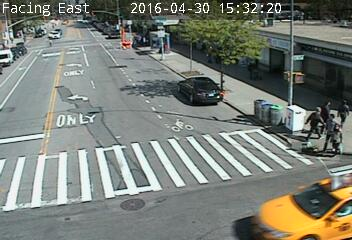neg: (102, 45, 124, 75), (242, 144, 264, 173), (286, 193, 308, 222), (12, 166, 33, 194), (39, 45, 59, 71), (153, 173, 173, 199), (160, 60, 179, 85), (46, 110, 65, 135), (17, 17, 33, 38), (84, 18, 99, 39)
pos: (319, 112, 347, 150), (299, 105, 327, 142), (314, 99, 339, 133), (324, 124, 348, 156), (332, 95, 351, 126)
